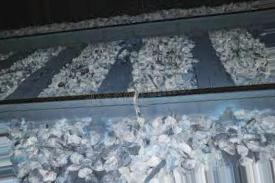tracks_fault: (122, 81, 155, 137)
